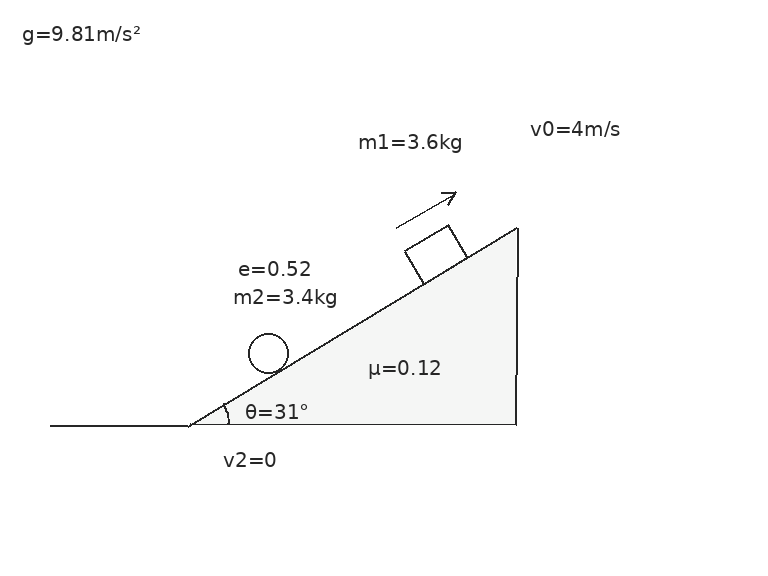ball: (246, 331, 290, 375)
block: (402, 223, 469, 285)
ramp: (187, 226, 518, 426)
